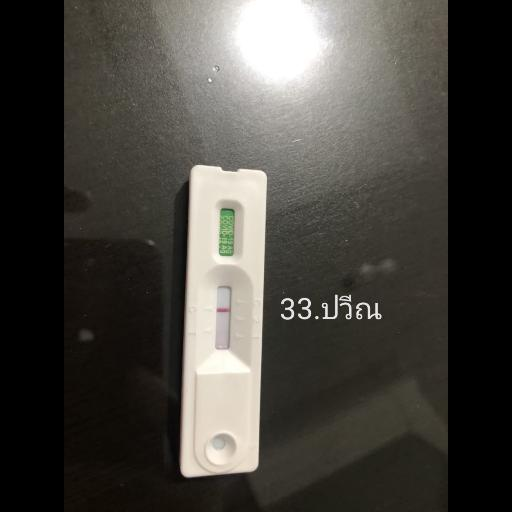Neg: (180, 166, 267, 477)
